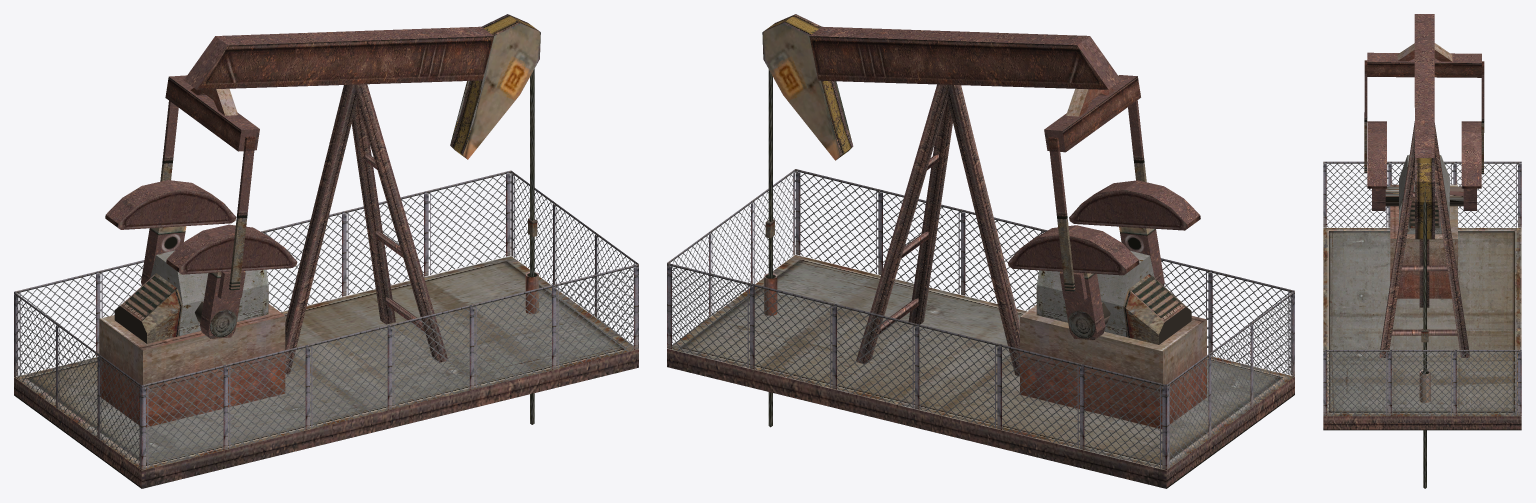
Rendered from OPMP01.glb.
3 views of the same model, side by side, from view 1: azimuth 30°, elevation 25°; view 2: azimuth 150°, elevation 25°; view 3: azimuth 270°, elevation 25° (orthographic). The views are drawn at different scales.
Parts seen in each view (by area): view 1: _OPMP01; view 2: _OPMP01; view 3: _OPMP01.
Boxes of the visible parts, x1,y1,x2,y2 form: _OPMP01: (14,14,638,488); _OPMP01: (667,14,1294,488); _OPMP01: (1323,14,1521,488).
Size of the model in its own units: 11.2 by 9.89 by 4.98.
2 materials, 2 textured.
